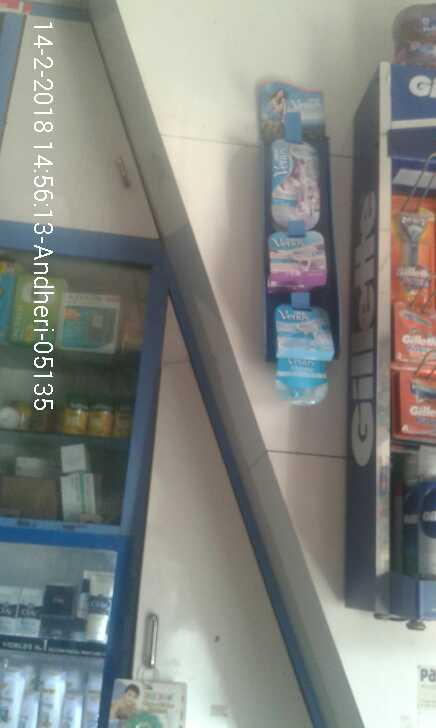beauty: (391, 198, 436, 303), (271, 137, 321, 229), (279, 298, 334, 357), (273, 232, 329, 285), (397, 304, 436, 364)
